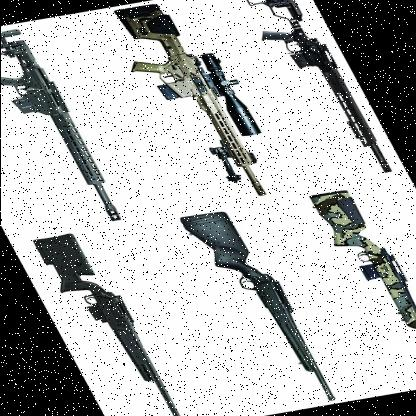rifle: (173, 206, 351, 414), (105, 0, 282, 202), (24, 229, 202, 416), (225, 0, 403, 182), (0, 26, 138, 233), (288, 182, 416, 390)
